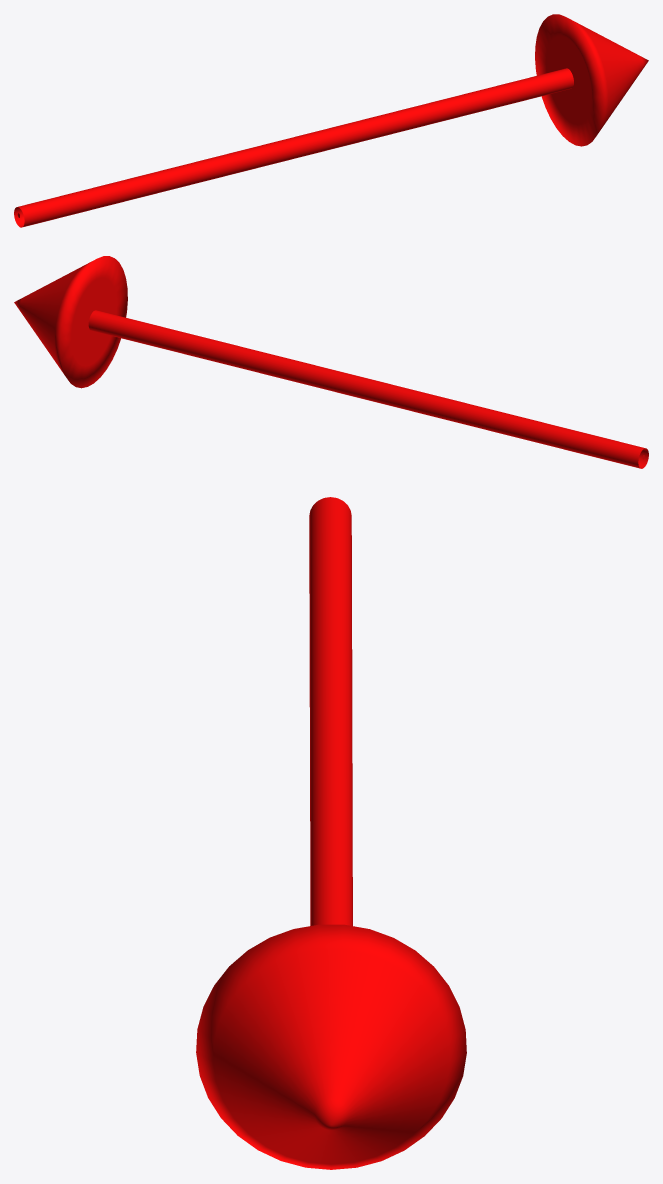
The model's file is xShift.obj.
3 views of the same model, one above another, from view 1: azimuth 30°, elevation 25°; view 2: azimuth 150°, elevation 25°; view 3: azimuth 270°, elevation 25° (orthographic). The views are drawn at different scales.
Size of the model in its own units: 79.81 by 14.85 by 14.87.
